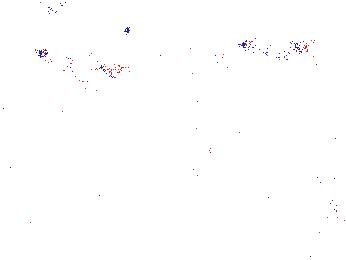glassfish: (182, 117, 263, 184)
redtail glassfish: (34, 46, 117, 81), (152, 47, 233, 73), (120, 68, 190, 94), (238, 36, 307, 59)
